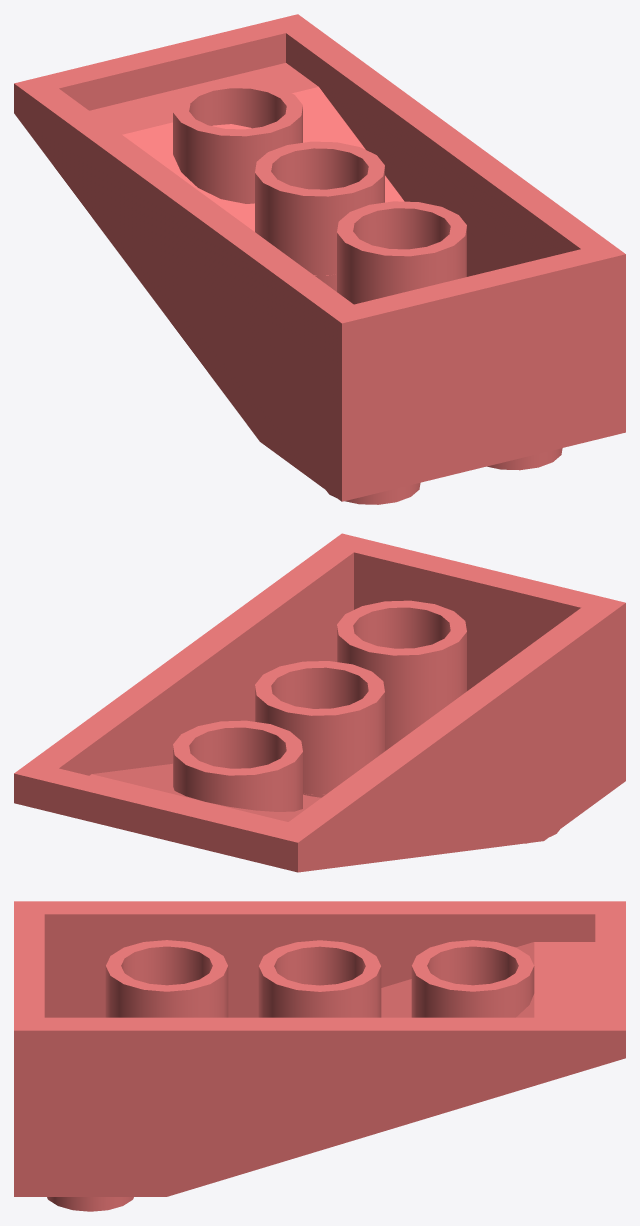
The picture shows the model from 3 angles, top to bottom: view 1: azimuth 30°, elevation 25°; view 2: azimuth 150°, elevation 25°; view 3: azimuth 270°, elevation 25°; orthographic projection. The views are drawn at different scales.
Parts seen in each view (by area): view 1: LDrawPart; view 2: LDrawPart; view 3: LDrawPart.
Part boxes in pixels (x1,y1,x2,y2): LDrawPart: (14,14,625,504); LDrawPart: (14,533,625,872); LDrawPart: (14,901,625,1211).
Size of the model in its own units: 0.28 by 0.196 by 0.56.
